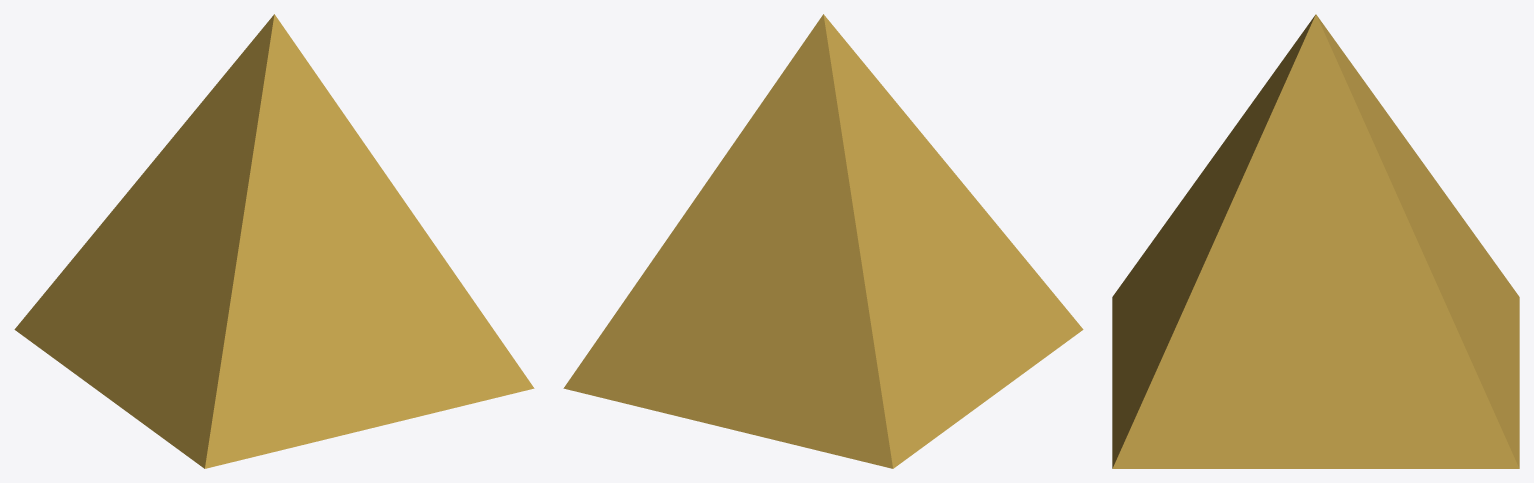
Rendered from NEWpyramid.fbx.
3 renders of one model, left to right at view 1: azimuth 30°, elevation 25°; view 2: azimuth 150°, elevation 25°; view 3: azimuth 270°, elevation 25°, orthographic. The views are drawn at different scales.
Visible parts, largest first — view 1: Cube; view 2: Cube; view 3: Cube.
Boxes of the visible parts, x1,y1,x2,y2 form: Cube: [14, 14, 534, 468]; Cube: [563, 14, 1083, 468]; Cube: [1112, 14, 1519, 468].
Bounding box in the file's own units: 453 × 453 × 453.
